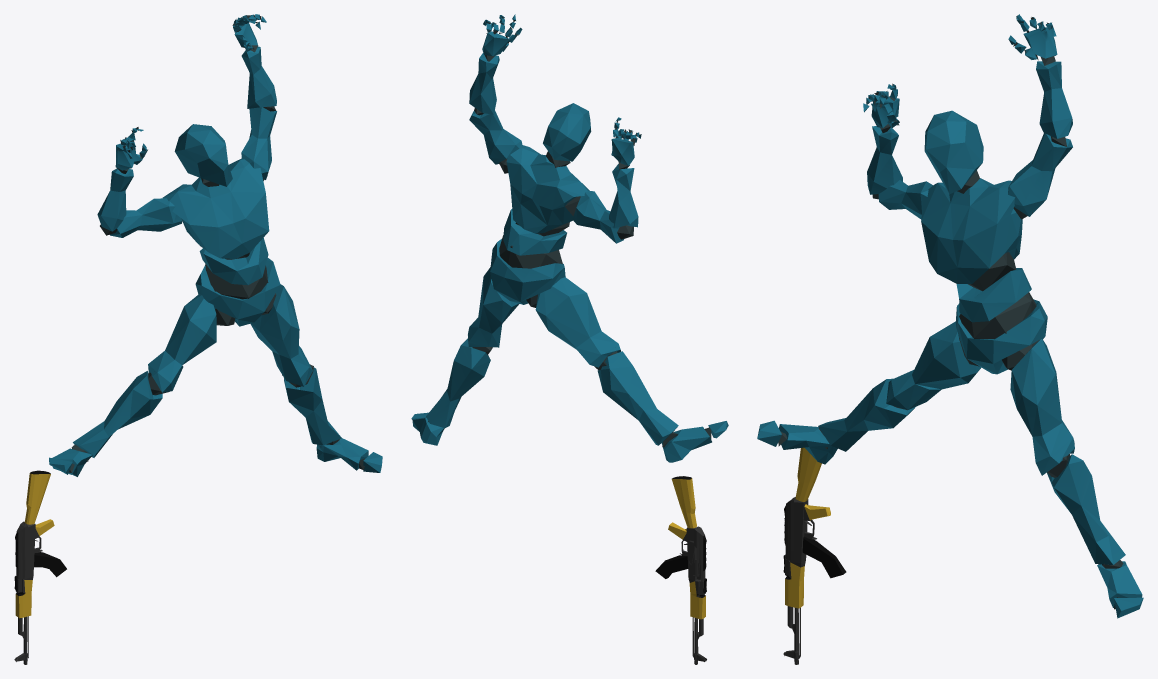
Rendered from EnemyDying_000124.obj.
The picture shows the model from 3 angles, left to right: view 1: azimuth 30°, elevation 25°; view 2: azimuth 150°, elevation 25°; view 3: azimuth 330°, elevation 25°; orthographic projection. The views are drawn at different scales.
Visible parts, largest first — view 1: Alpha_Surface, AK-47_Cube, Alpha_Joints; view 2: Alpha_Surface, AK-47_Cube, Alpha_Joints; view 3: Alpha_Surface, AK-47_Cube, Alpha_Joints.
Part boxes in pixels (box(x1,y1,x2,y2)): Alpha_Surface: box(49, 14, 382, 476); AK-47_Cube: box(14, 470, 66, 664); Alpha_Joints: box(69, 15, 364, 472); Alpha_Surface: box(411, 14, 728, 462); AK-47_Cube: box(655, 476, 706, 664); Alpha_Joints: box(428, 16, 711, 447); Alpha_Surface: box(757, 14, 1143, 618); AK-47_Cube: box(783, 447, 846, 664); Alpha_Joints: box(778, 15, 1123, 609).
Bounding box in the file's own units: 308 × 536 × 73.01.
